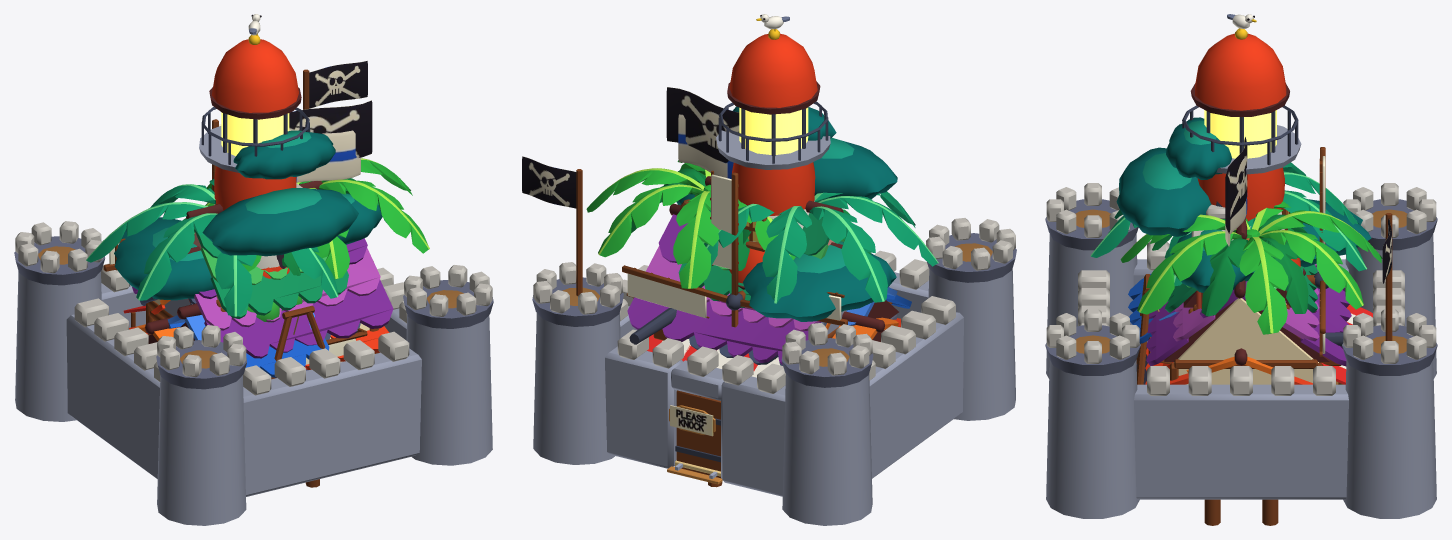
The model's file is props.glb.
3 views of the same model, side by side, from view 1: azimuth 30°, elevation 25°; view 2: azimuth 150°, elevation 25°; view 3: azimuth 270°, elevation 25° (orthographic). The views are drawn at different scales.
Parts seen in each view (by area): view 1: FortMesh, Ironwood_0Mesh, LighthouseMesh, TavernMesh, Palm_1Mesh, House_1Mesh, Palm_0Mesh, FlagPirateCloth, FlagSettlersCloth, SailLoftMesh, ShipyardMesh, FoundryMesh; view 2: FortMesh, LighthouseMesh, Ironwood_0Mesh, Palm_1Mesh, Palm_0Mesh, TavernMesh, Sails, FlagPirateCloth, House_1Mesh, FlagSettlersCloth, SailLoftMesh; view 3: FortMesh, Palm_0Mesh, LighthouseMesh, TavernMesh, Ironwood_0Mesh, Palm_1Mesh, House_1Mesh, FlagPirateCloth, Sails, SailLoftMesh, DockMesh, ShipyardMesh.
Boxes of the visible parts, box(x1,y1,x2,y2) form: FortMesh: box(14, 60, 493, 525); Ironwood_0Mesh: box(114, 130, 382, 300); LighthouseMesh: box(199, 14, 309, 273); TavernMesh: box(123, 238, 393, 358); Palm_1Mesh: box(86, 179, 338, 316); House_1Mesh: box(186, 181, 348, 318); Palm_0Mesh: box(205, 158, 429, 279); FlagPirateCloth: box(289, 100, 372, 158); FlagSettlersCloth: box(296, 130, 360, 182); SailLoftMesh: box(129, 316, 389, 369); ShipyardMesh: box(271, 305, 325, 379); FoundryMesh: box(140, 297, 360, 339); FortMesh: box(522, 156, 1016, 525); LighthouseMesh: box(716, 14, 830, 251); Ironwood_0Mesh: box(676, 106, 897, 321); Palm_1Mesh: box(704, 191, 938, 303); Palm_0Mesh: box(586, 160, 795, 288); TavernMesh: box(627, 203, 842, 377); Sails: box(622, 170, 847, 327); FlagPirateCloth: box(666, 87, 739, 163); House_1Mesh: box(678, 176, 844, 307); FlagSettlersCloth: box(678, 114, 733, 178); SailLoftMesh: box(832, 301, 900, 341); FortMesh: box(1045, 183, 1437, 518); Palm_0Mesh: box(1120, 201, 1382, 334); LighthouseMesh: box(1182, 14, 1301, 243); TavernMesh: box(1146, 264, 1372, 384); Ironwood_0Mesh: box(1116, 117, 1371, 292); Palm_1Mesh: box(1090, 162, 1367, 288); House_1Mesh: box(1164, 201, 1317, 313); FlagPirateCloth: box(1225, 137, 1247, 233); Sails: box(1314, 147, 1328, 356); SailLoftMesh: box(1145, 337, 1312, 384); DockMesh: box(1204, 499, 1278, 525); ShipyardMesh: box(1136, 274, 1159, 384).
Bounding box in the file's own units: 8.92 × 11.58 × 8.44.
15 materials, 10 textured.
